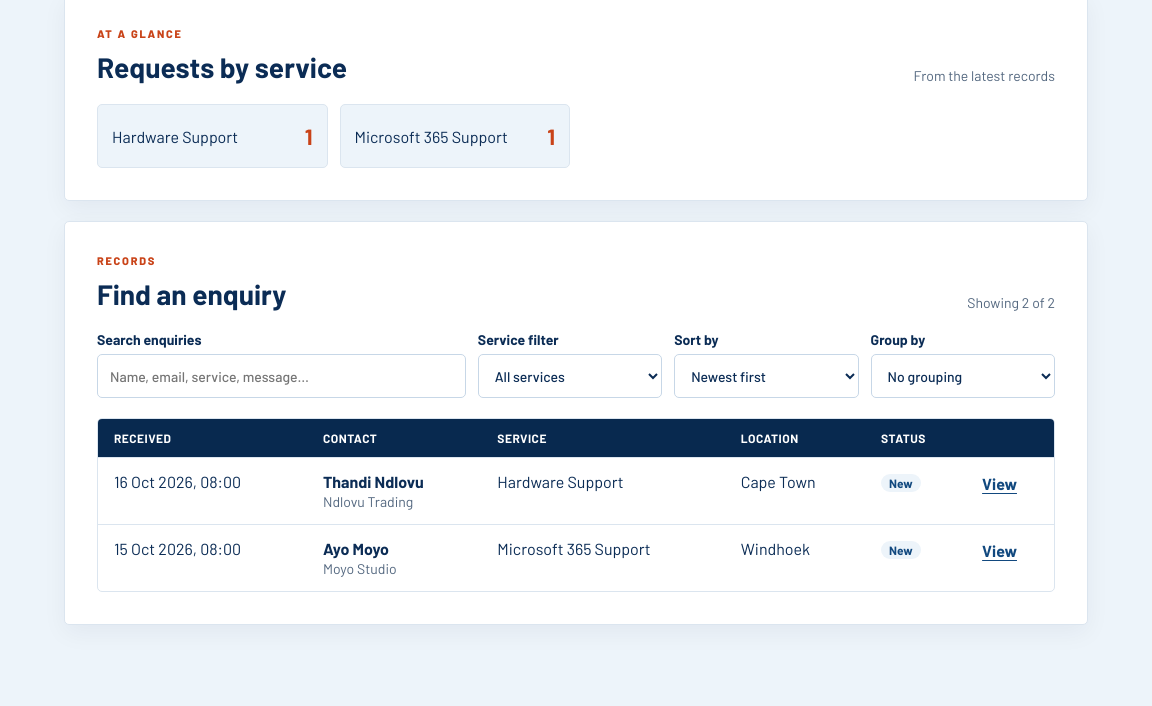
Test: admin dashboard › shows a record snapshot and searchable enquiry table with full details
The image size is (1152, 706).
(page scrolled)
Expected: the table named "enquiries" is shown, [98, 419, 1054, 591]
Expected: the row "Thandi Ndlovu" is shown, [98, 458, 1054, 524]
Type "migration" into the search field labelled "Search enquiries" at (281,376), box [97, 354, 466, 398]
(page scrolled)
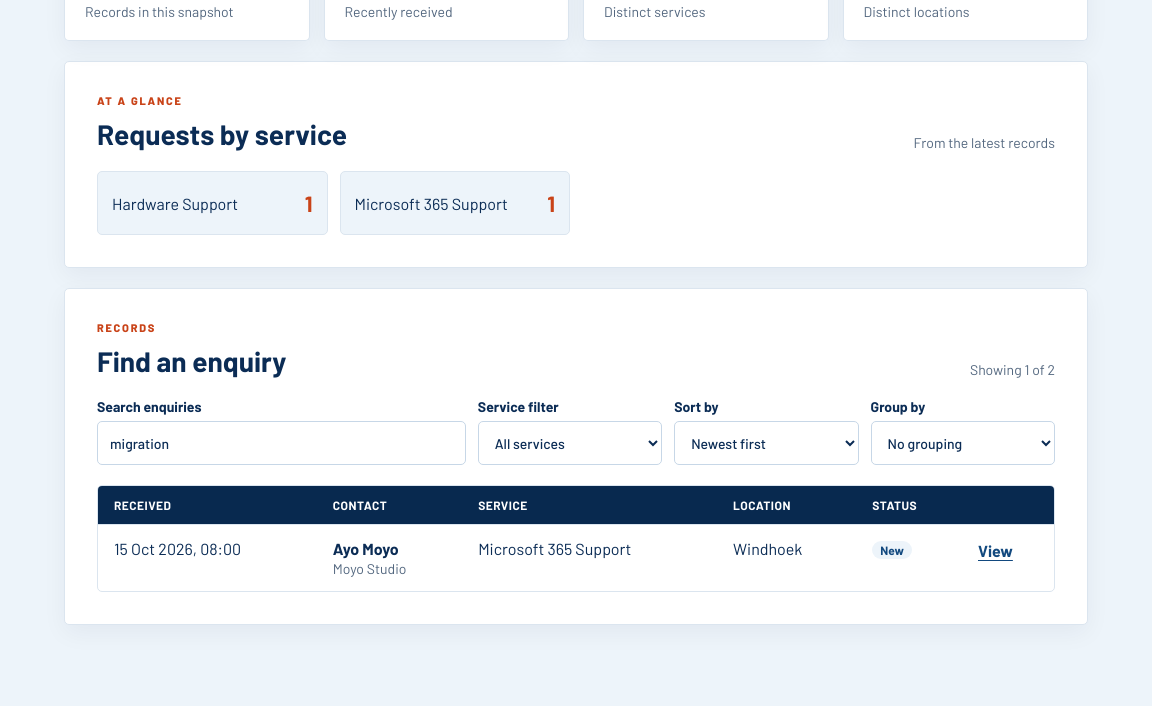
Expected: the row "Ayo Moyo" is shown, [98, 524, 1054, 591]
Expected: the text "Thandi Ndlovu" is gone
Click the button "View" at (995,550), box [978, 539, 1013, 562]
(page scrolled)
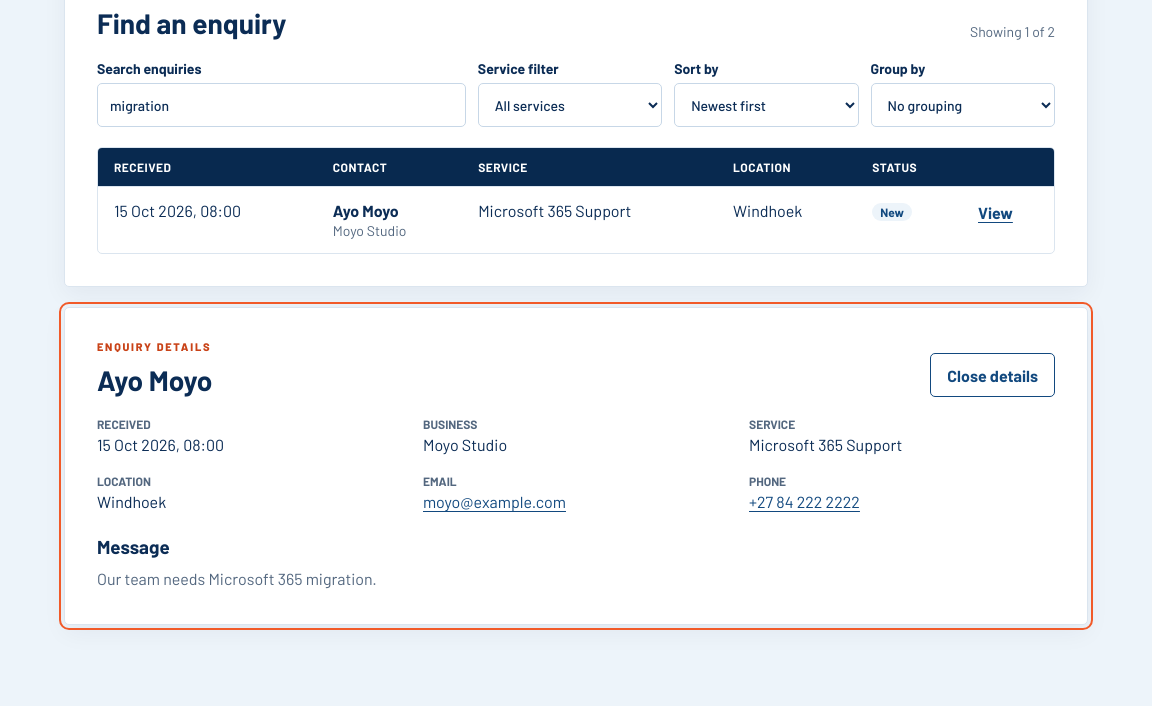
Expected: the text "Our team needs Microsoft 365 migration." is shown, [97, 569, 377, 588]
